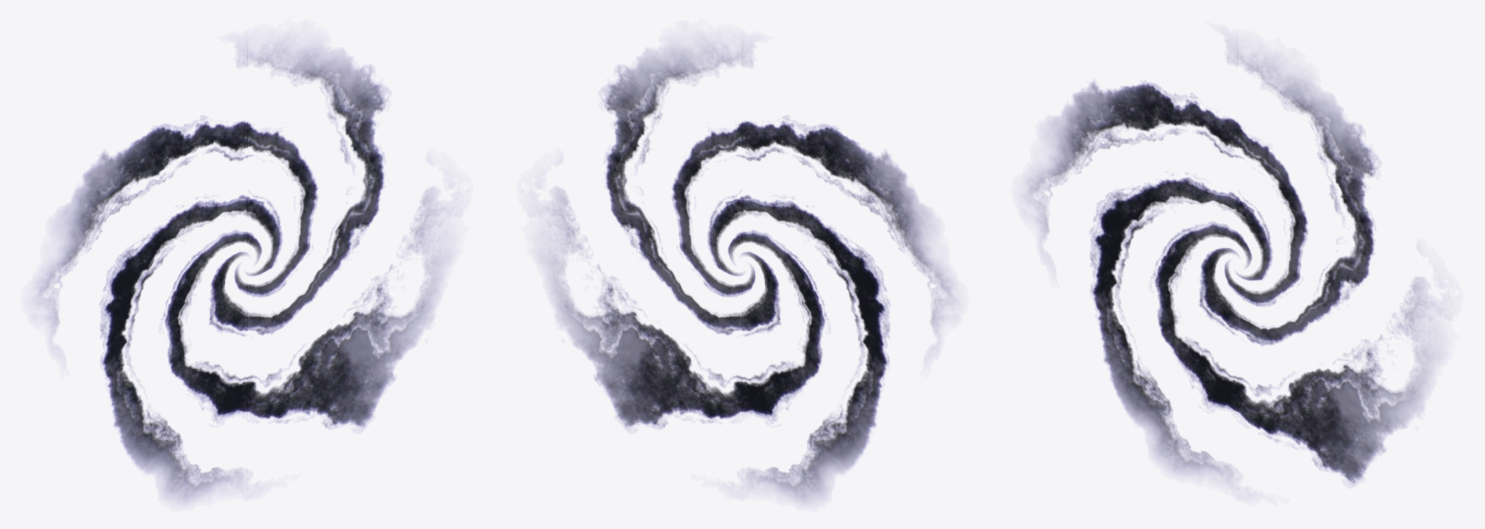
Rendered from sky_swirl_b.glb.
3 views of the same model, side by side, from view 1: azimuth 30°, elevation 25°; view 2: azimuth 150°, elevation 25°; view 3: azimuth 330°, elevation 25° (orthographic).
Visible parts, largest first — view 1: sky_swirl_b; view 2: sky_swirl_b; view 3: sky_swirl_b.
Boxes of the visible parts, x1,y1,x2,y2 form: sky_swirl_b: (36, 41, 445, 502); sky_swirl_b: (544, 41, 953, 502); sky_swirl_b: (1026, 41, 1435, 484).
Bounding box in the file's own units: 2 × 2 × 0.
Materials: 1 (1 with a texture image).
